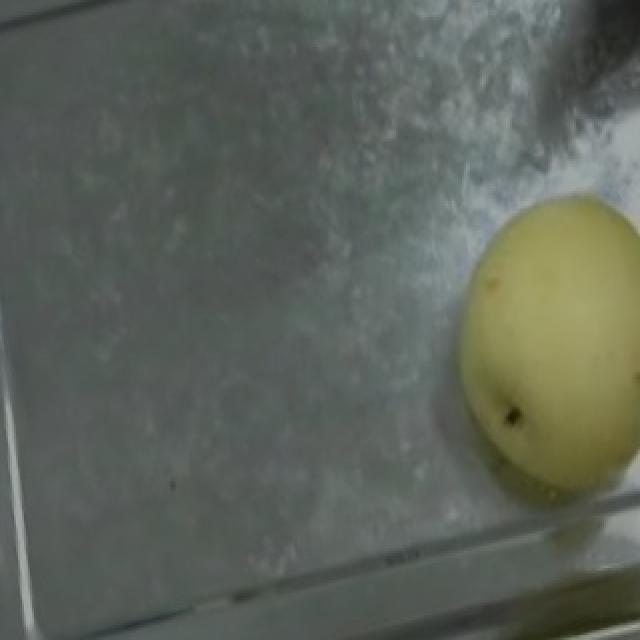Fruit: (412, 171, 640, 519)
